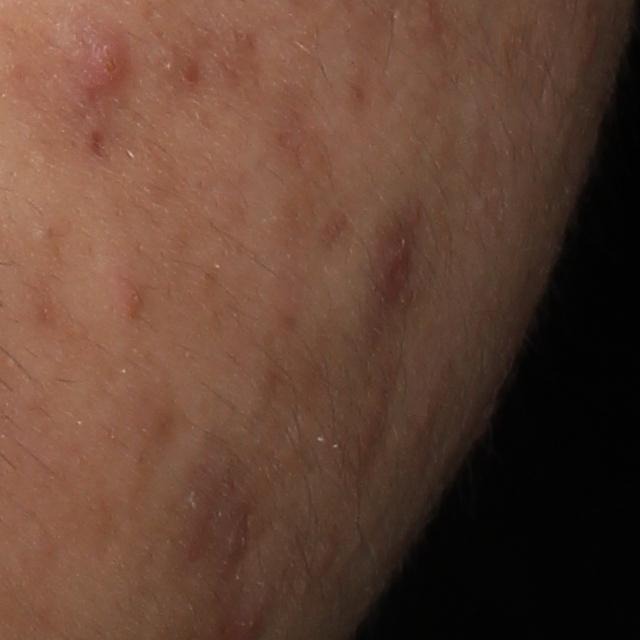papule: (75, 18, 140, 104), (237, 602, 262, 640)
